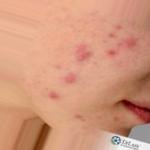Acne: (44, 31, 139, 118)
